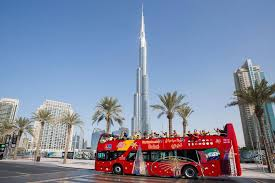bus: (93, 122, 243, 181)
